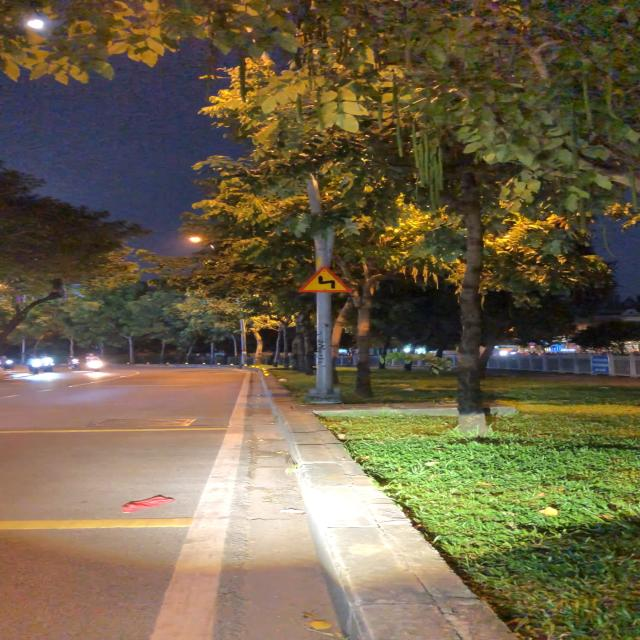Bien bao nhieu cho ngoat nguy hiem lien tiep: (294, 265, 360, 295)
